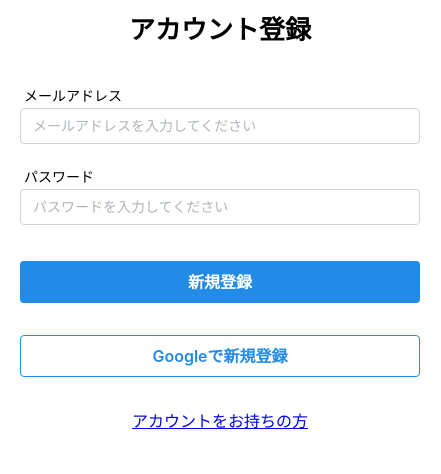
Scenario: 新規登録ページ入力チェック › メールアドレスの形式が正しくない場合にエラーメッセージが表示されること
Type "aaaaaaaaaa.aa" into the field named "email" at (220, 126), box top-left (20, 108), bottom-right (420, 144)
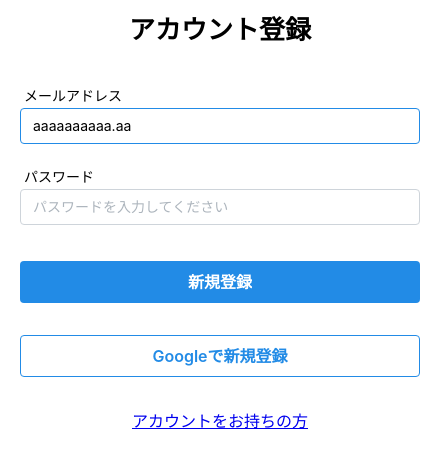
Click the button with aria-label "signup" at (220, 282), box top-left (20, 261), bottom-right (420, 303)
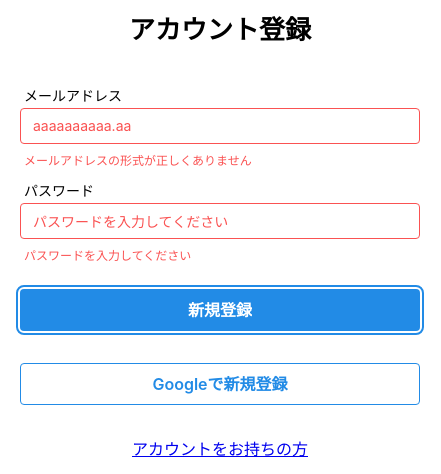
Check: the text "メールアドレスの形式が正しくありません" is shown, box top-left (24, 153), bottom-right (252, 168)
